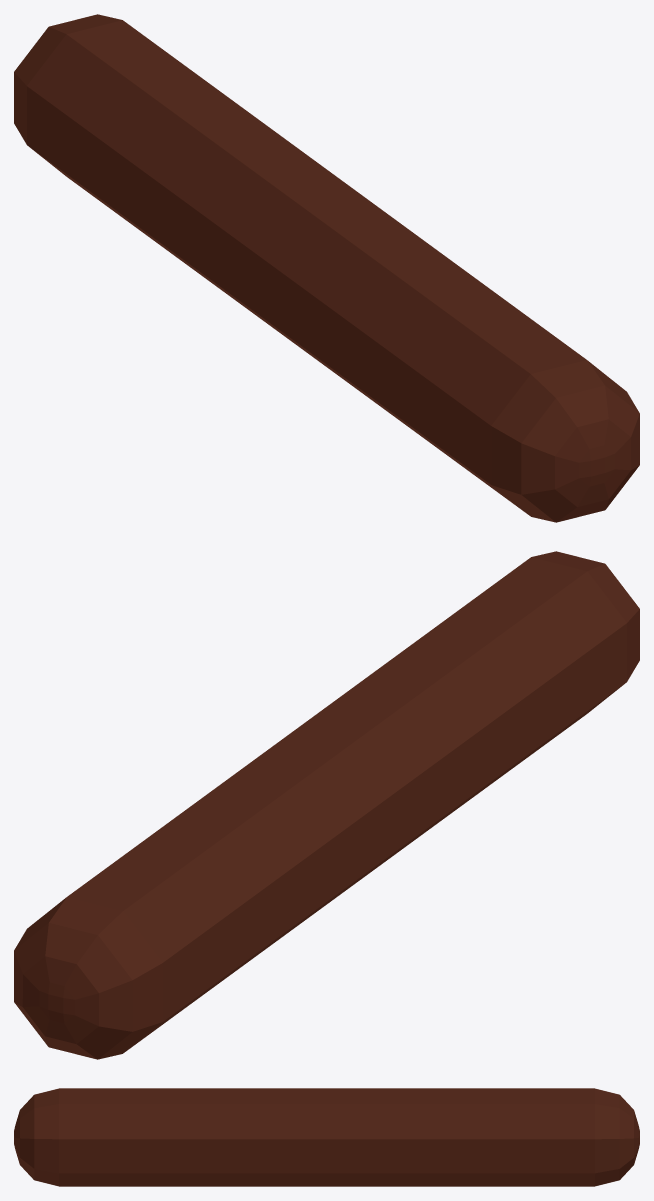
The model's file is Sausage_Cooked.glb.
The picture shows the model from 3 angles, top to bottom: view 1: azimuth 30°, elevation 25°; view 2: azimuth 150°, elevation 25°; view 3: azimuth 270°, elevation 25°; orthographic projection. The views are drawn at different scales.
Parts seen in each view (by area): view 1: Sausage_Cooked; view 2: Sausage_Cooked; view 3: Sausage_Cooked.
Part boxes in pixels (x1=…): Sausage_Cooked: x1=14, y1=14, x2=639, y2=522; Sausage_Cooked: x1=14, y1=551, x2=639, y2=1059; Sausage_Cooked: x1=14, y1=1088, x2=639, y2=1186.
Bounding box in the file's own units: 23.96 × 24.13 × 166.
